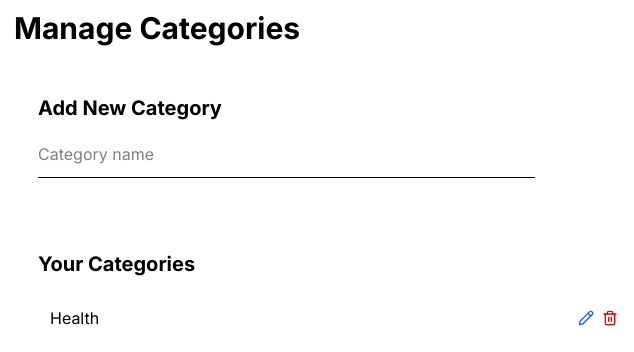
it: CategoryManagement Component › enters edit mode when pencil icon is clicked
Check: the text "Health" is shown, box [50,306,99,330]
Click the button titled "Edit" at x=586, y=318, box [578,310,594,326]
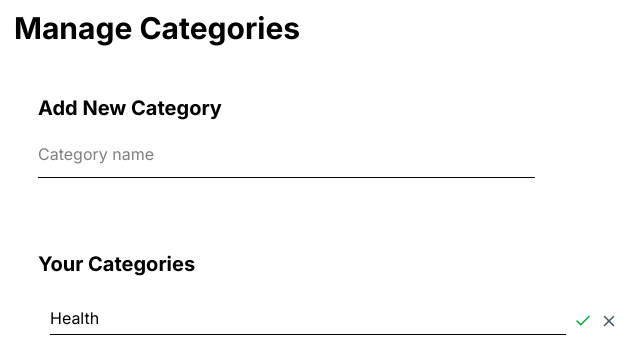
Check: the field showing "Health" is shown, box [50,306,566,335]
